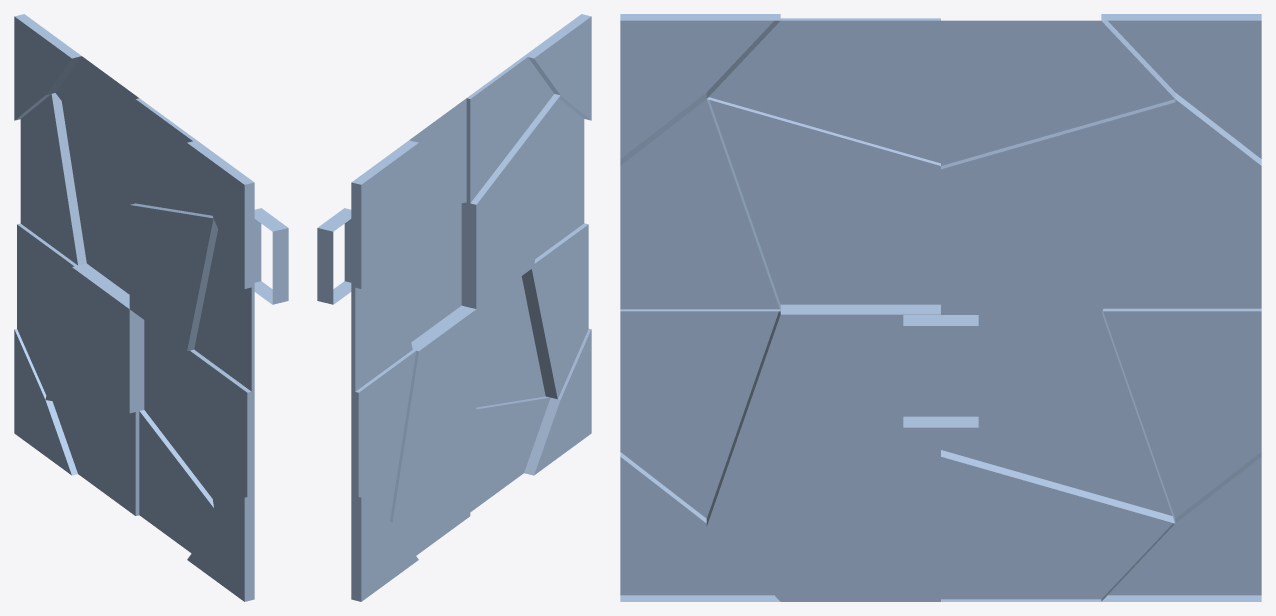
The model's file is SobrePuerta.gltf.
The picture shows the model from 3 angles, left to right: view 1: azimuth 30°, elevation 25°; view 2: azimuth 150°, elevation 25°; view 3: azimuth 270°, elevation 25°; orthographic projection. The views are drawn at different scales.
Visible parts, largest first — view 1: Pared puerta Ns; view 2: Pared puerta Ns; view 3: Pared puerta Ns.
Part boxes in pixels (x1,y1,x2,y2): Pared puerta Ns: (14, 14, 288, 601); Pared puerta Ns: (317, 14, 591, 601); Pared puerta Ns: (620, 14, 1261, 601).
Bounding box in the file's own units: 0.73 × 2 × 2.
